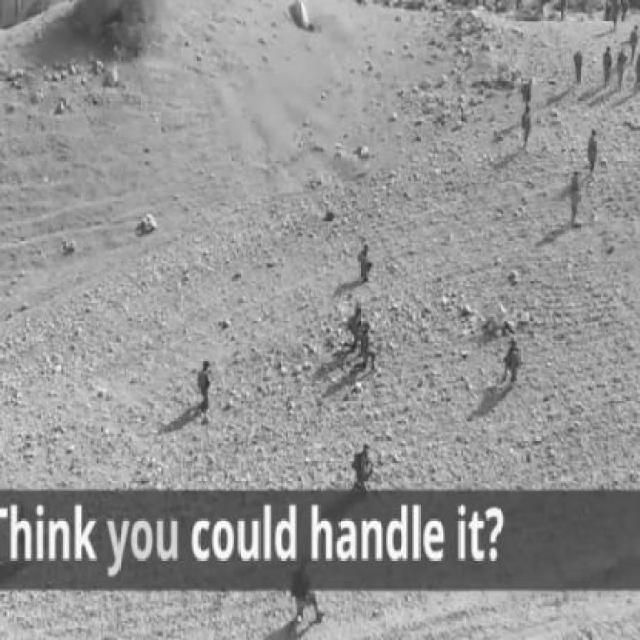Person: (353, 319, 378, 372), (350, 443, 374, 489), (503, 337, 522, 385), (355, 240, 375, 285), (196, 359, 211, 418), (349, 304, 361, 360), (569, 171, 581, 223), (586, 126, 598, 177), (519, 106, 532, 151), (600, 46, 613, 86), (521, 77, 535, 110), (572, 51, 584, 86), (616, 44, 624, 90), (630, 24, 640, 55), (558, 1, 570, 24), (634, 48, 640, 91), (612, 1, 620, 33)
